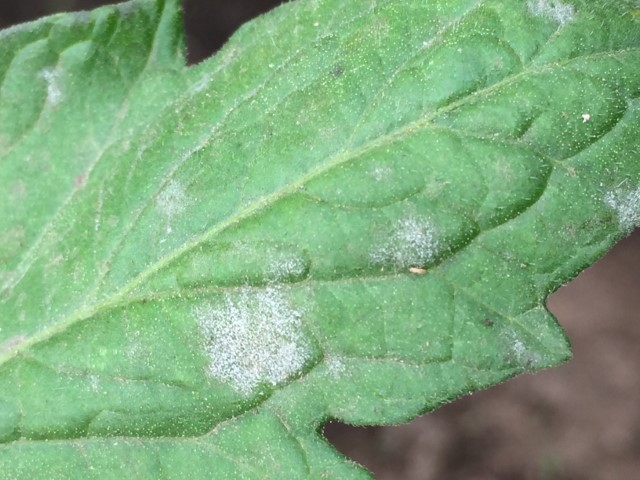oidio: (192, 286, 308, 397), (603, 186, 640, 235), (524, 1, 575, 30), (261, 252, 306, 284), (155, 180, 190, 220), (36, 64, 66, 105), (501, 329, 527, 367), (323, 353, 351, 380), (368, 165, 393, 180)
